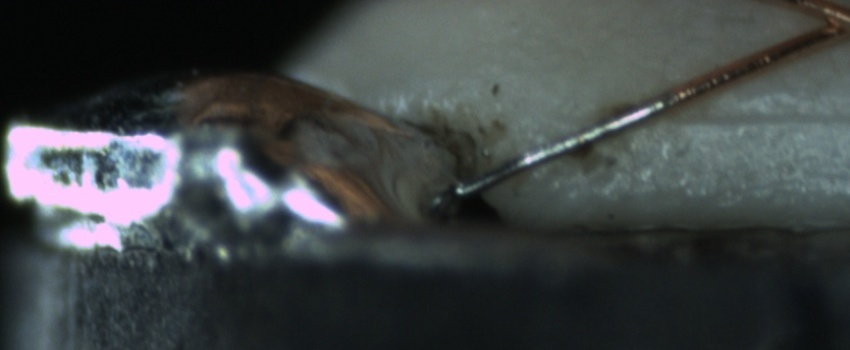CL: (792, 1, 850, 46)
DL: (641, 85, 850, 149)
TS: (435, 98, 667, 210)
